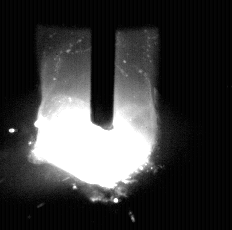arame: (92, 0, 115, 131)
poca: (33, 0, 154, 230)
